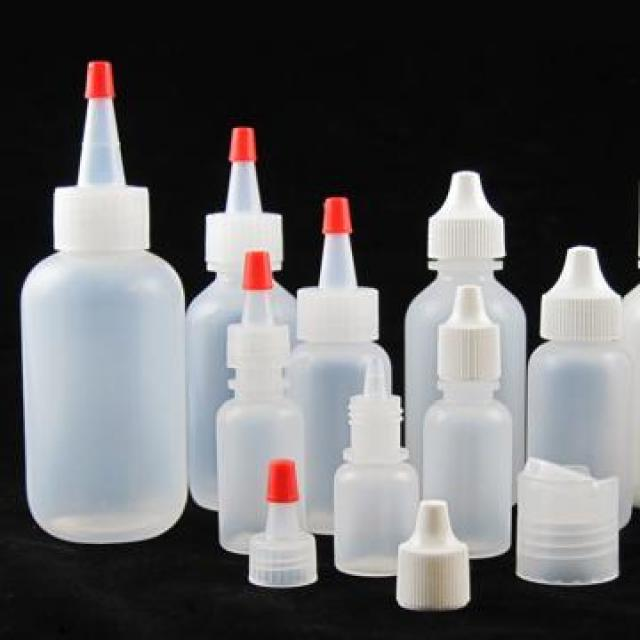plastic_bottle: (13, 52, 207, 553), (390, 489, 509, 638), (235, 451, 343, 605)
